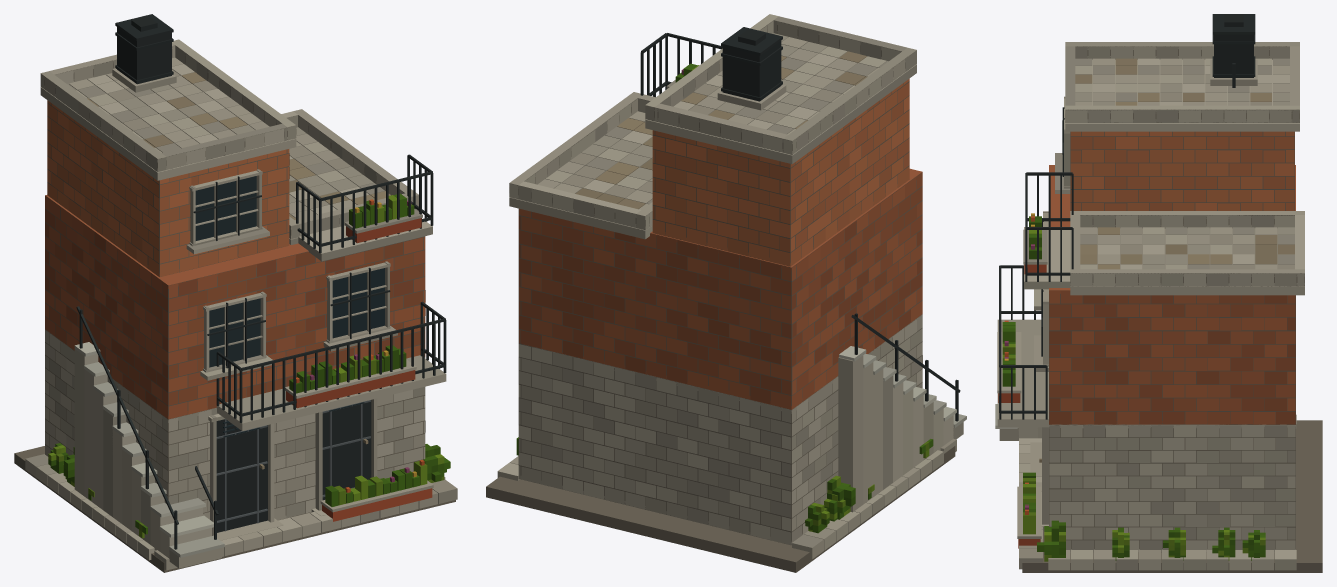
Rendered from SM_Mapa_072.fbx.
3 views of the same model, side by side, from view 1: azimuth 30°, elevation 25°; view 2: azimuth 150°, elevation 25°; view 3: azimuth 270°, elevation 25° (orthographic). The views are drawn at different scales.
Visible parts, largest first — view 1: SM_Mapa_072; view 2: SM_Mapa_072; view 3: SM_Mapa_072.
Boxes of the visible parts, left/top/right/bottom form: SM_Mapa_072: left=14, top=14, right=457, bottom=572; SM_Mapa_072: left=486, top=14, right=966, bottom=572; SM_Mapa_072: left=995, top=14, right=1322, bottom=572.
Bounding box in the file's own units: 8 × 7.56 × 11.57.
